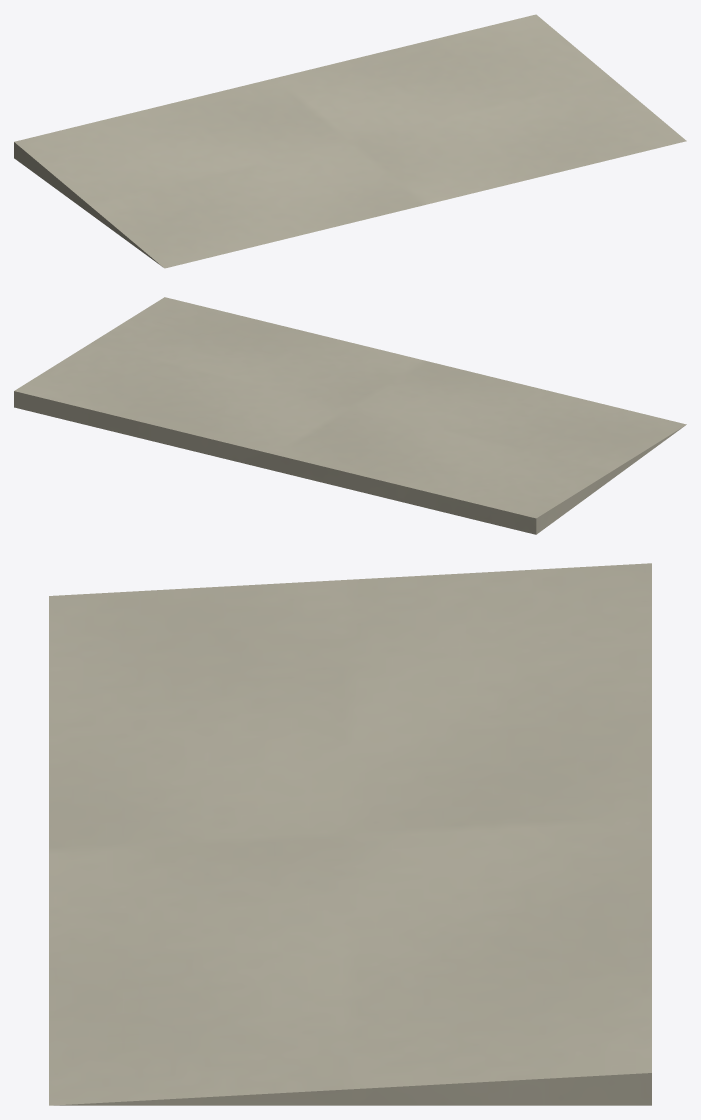
File: Threshold_Ramp.glb
3 renders of one model, top to bottom at view 1: azimuth 30°, elevation 25°; view 2: azimuth 150°, elevation 25°; view 3: azimuth 270°, elevation 25°, orthographic. The views are drawn at different scales.
Visible parts, largest first — view 1: Threshold_Ramp; view 2: Threshold_Ramp; view 3: Threshold_Ramp.
Boxes of the visible parts, left/top/right/bottom form: Threshold_Ramp: left=14, top=14, right=686, bottom=268; Threshold_Ramp: left=14, top=297, right=686, bottom=534; Threshold_Ramp: left=49, top=563, right=651, bottom=1105.
Bounding box in the file's own units: 4 × 0.12 × 2.
1 material, 1 textured.
